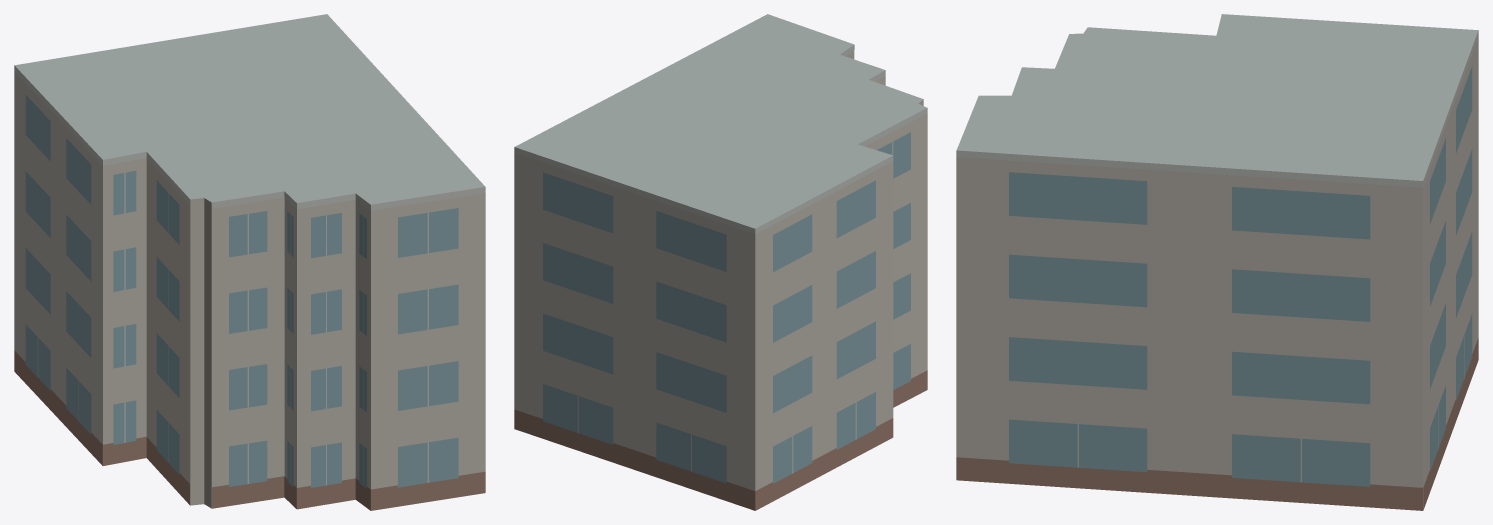
File: survey-upis-32987979.glb
3 views of the same model, side by side, from view 1: azimuth 30°, elevation 25°; view 2: azimuth 150°, elevation 25°; view 3: azimuth 270°, elevation 25° (orthographic). The views are drawn at different scales.
Parts seen in each view (by area): view 1: survey-upis-32987979.tmp; view 2: survey-upis-32987979.tmp; view 3: survey-upis-32987979.tmp.
Part boxes in pixels (box(x1,y1,x2,y2)): survey-upis-32987979.tmp: box(14, 14, 485, 510); survey-upis-32987979.tmp: box(514, 14, 927, 510); survey-upis-32987979.tmp: box(956, 14, 1478, 510).
Bounding box in the file's own units: 13.26 × 12.2 × 17.51.
